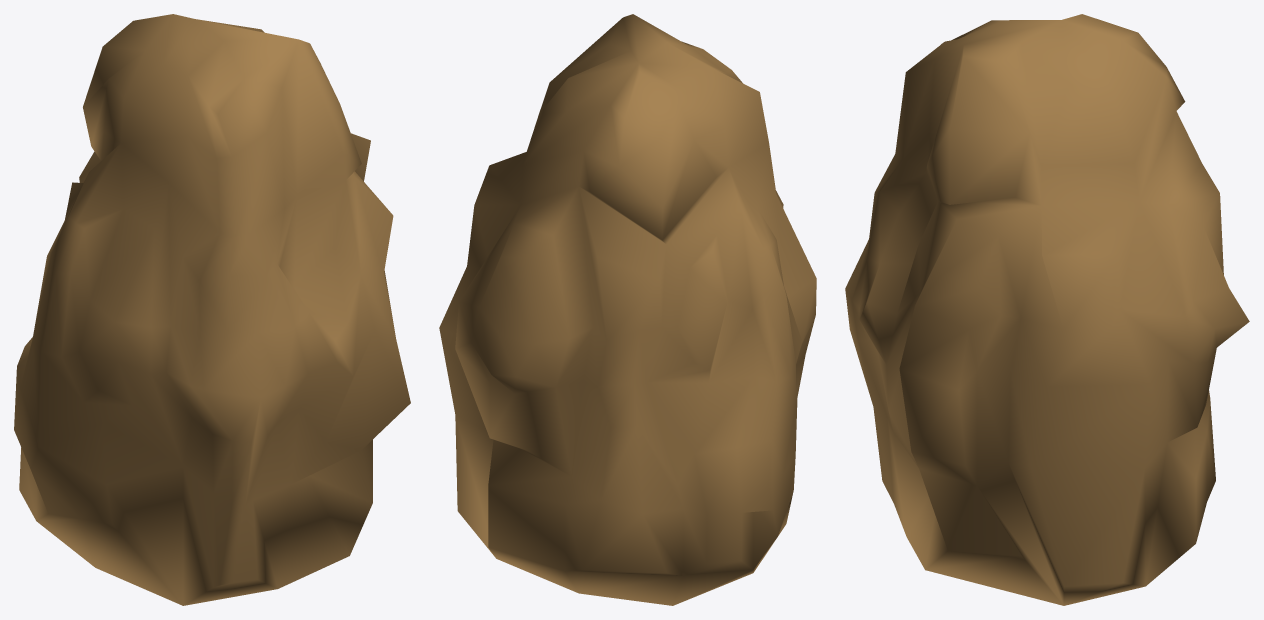
The model's file is hill4.fbx.
The picture shows the model from 3 angles, left to right: view 1: azimuth 30°, elevation 25°; view 2: azimuth 150°, elevation 25°; view 3: azimuth 270°, elevation 25°; orthographic projection. The views are drawn at different scales.
Parts seen in each view (by area): view 1: pCube1; view 2: pCube1; view 3: pCube1.
Boxes of the visible parts, <box> form: pCube1: <box>14,14,410,605</box>; pCube1: <box>439,14,816,605</box>; pCube1: <box>845,14,1249,605</box>.
Bounding box in the file's own units: 20.27 × 29.81 × 21.11.
